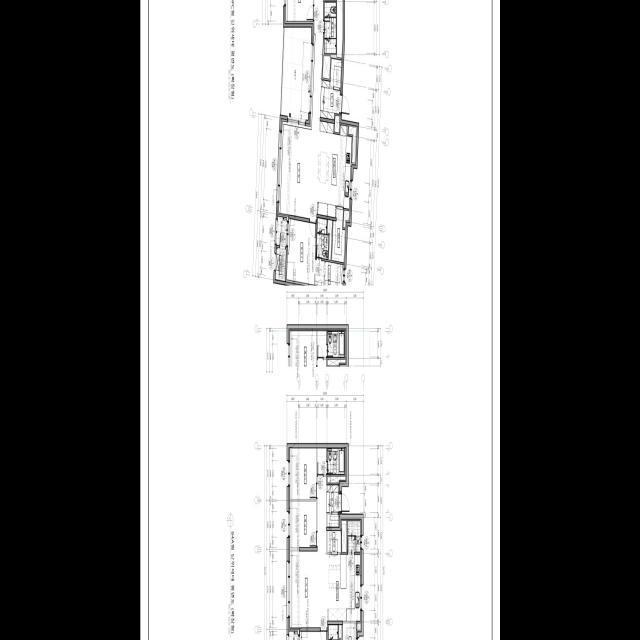background: (140, 0, 500, 640)
space_balconi: (281, 27, 311, 120), (347, 521, 360, 552), (276, 216, 286, 247), (289, 631, 298, 640)
space_bedroom: (286, 219, 316, 285), (290, 448, 316, 499), (290, 502, 316, 548), (286, 0, 313, 21)
space_dressroom: (315, 260, 343, 291)
space_front: (320, 80, 340, 120), (326, 485, 338, 513)
space_kitchen: (317, 121, 351, 218), (328, 555, 360, 621)
space_living_room: (278, 0, 323, 220), (290, 477, 327, 628)
space_other: (324, 0, 342, 58), (331, 209, 345, 263), (330, 59, 341, 88), (348, 126, 356, 163), (327, 531, 341, 552), (317, 448, 326, 475), (342, 623, 356, 640), (322, 56, 330, 79), (327, 220, 331, 260), (341, 521, 346, 552), (327, 514, 338, 527), (327, 477, 345, 483), (343, 210, 349, 228), (334, 116, 339, 133), (339, 625, 341, 640), (357, 623, 360, 630)
space_outdoor_room: (275, 247, 286, 281)
space_toilet: (324, 3, 336, 53), (316, 218, 328, 259), (327, 449, 344, 474), (328, 625, 337, 640)
